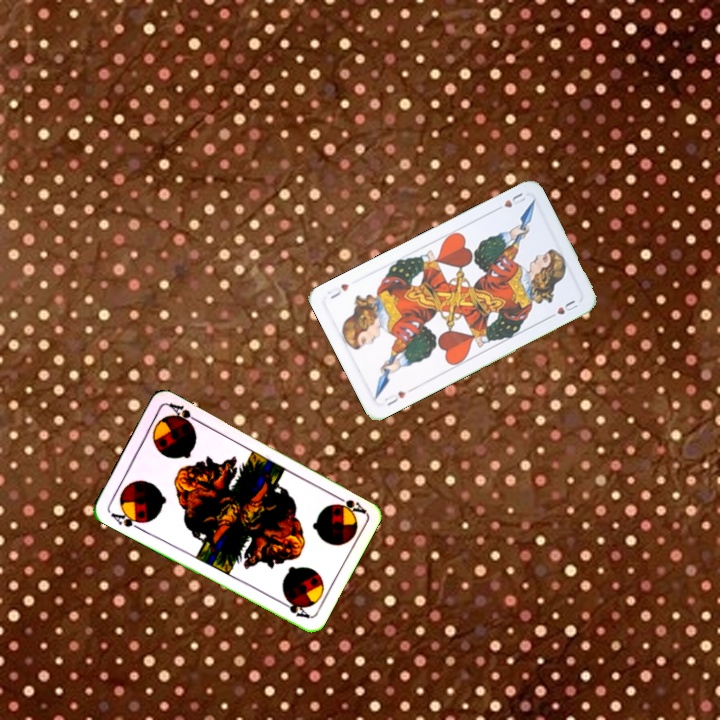HU: (490, 189, 529, 214), (380, 384, 416, 408)
SA: (106, 506, 147, 533), (330, 490, 368, 517)
